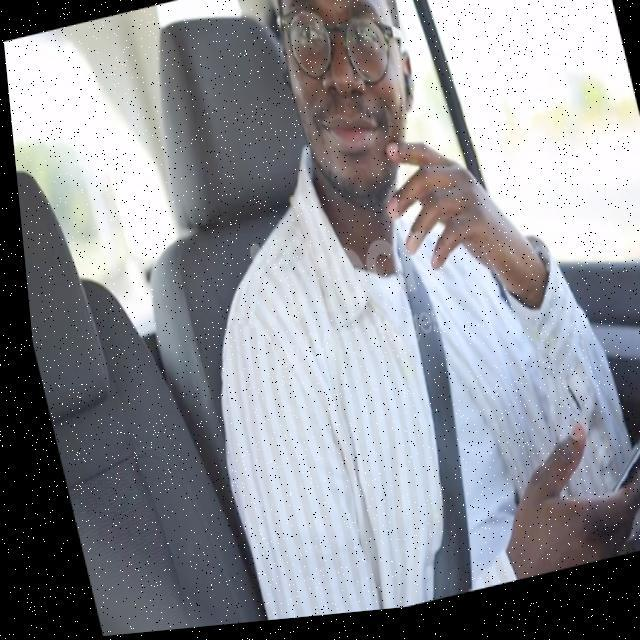PhoneCall: (562, 404, 640, 530)
